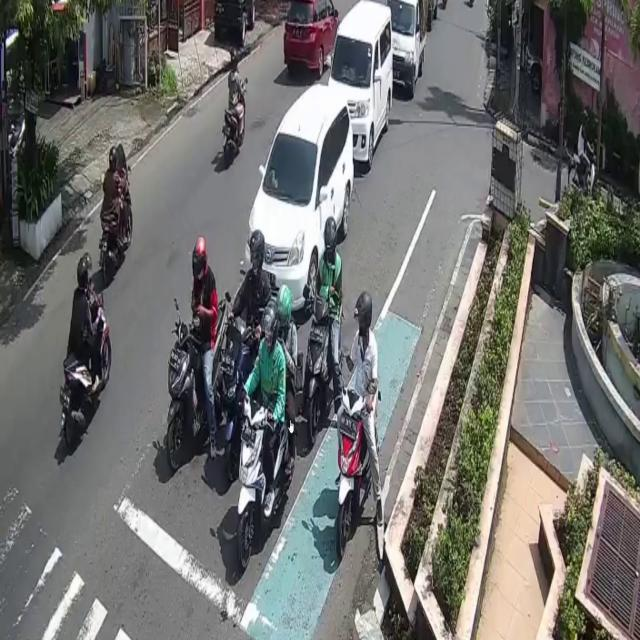car: (243, 81, 354, 319), (329, 0, 394, 162), (283, 0, 339, 76), (388, 0, 427, 94)
motorbike: (163, 297, 234, 474), (237, 396, 290, 568), (59, 288, 111, 450), (337, 387, 372, 555), (305, 298, 333, 447), (101, 168, 132, 277), (223, 77, 245, 161)
